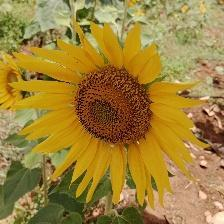sunflower: (34, 42, 191, 195), (1, 51, 28, 113)
